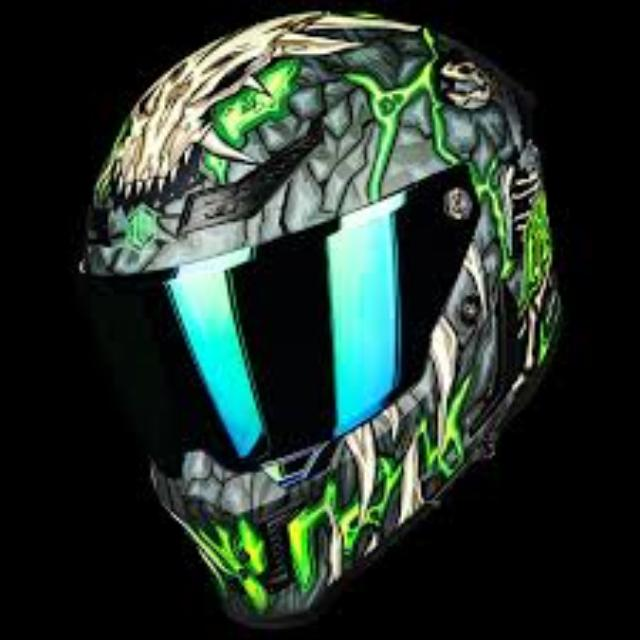motorcycle-helmets: (80, 14, 560, 617)
